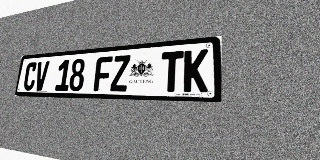1: (55, 59, 72, 91)
8: (68, 58, 86, 91)
C: (23, 62, 38, 91)
F: (93, 56, 113, 91)
K: (183, 49, 208, 92)
T: (160, 51, 184, 92)
V: (34, 61, 50, 91)
Z: (110, 55, 131, 91)
